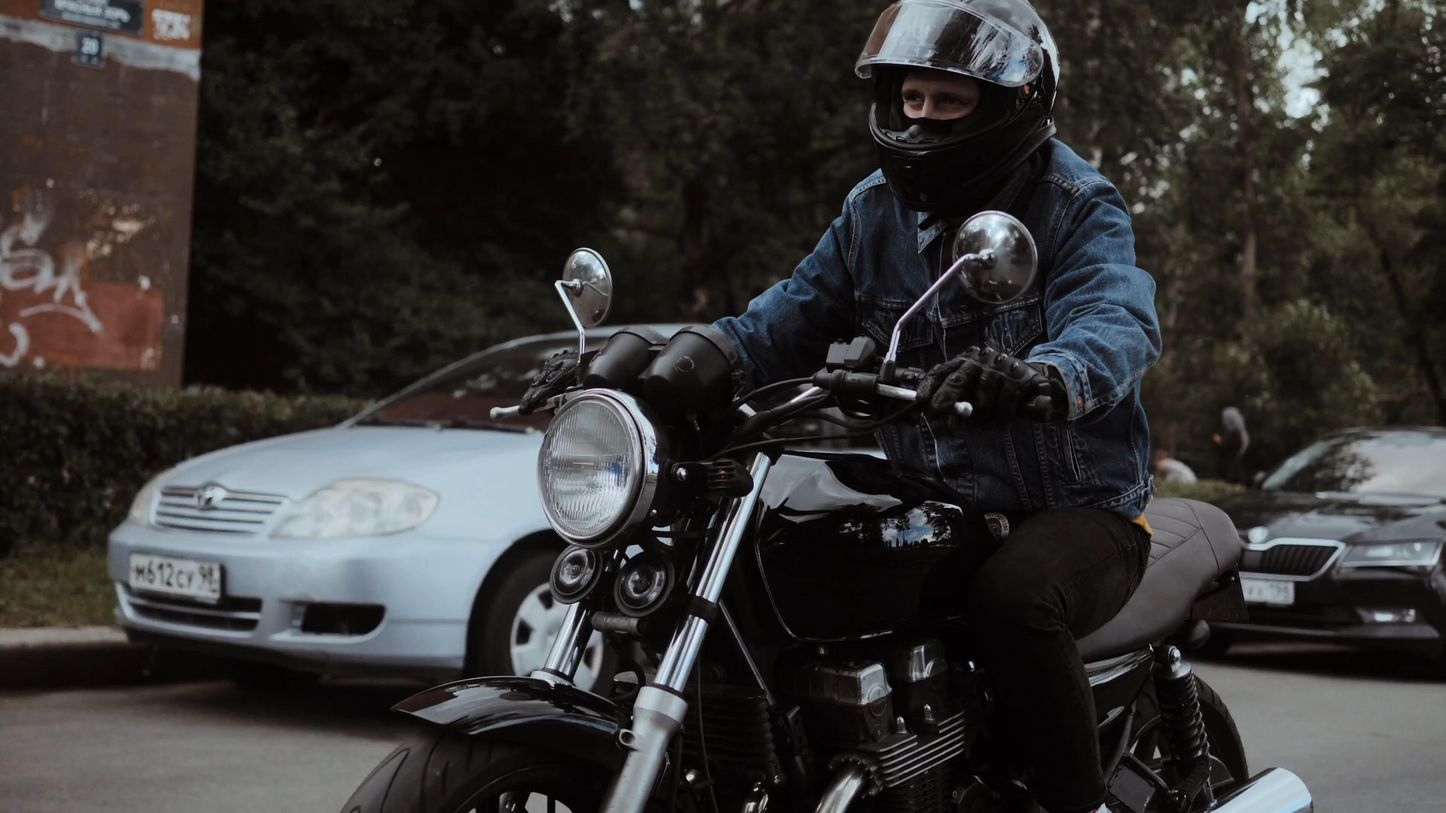driver: (339, 0, 1316, 813)
helmet: (854, 0, 1059, 213)
